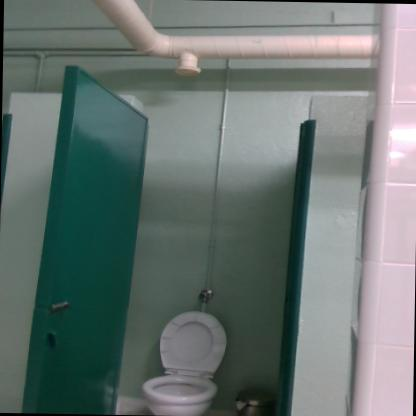open: (40, 59, 330, 416)
